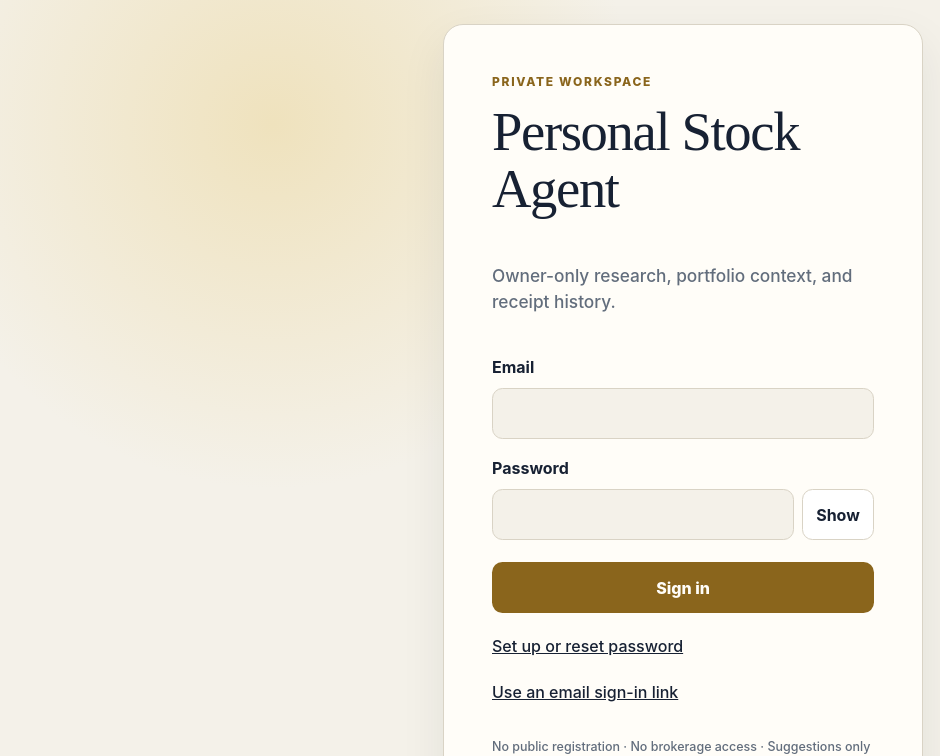
Test: shows a generic error when password sign-in fails
Type "unknown@example.com" into the field labelled "Email".
click(683, 414); type("unknown@example.com")  # box 492,388 -> 874,439
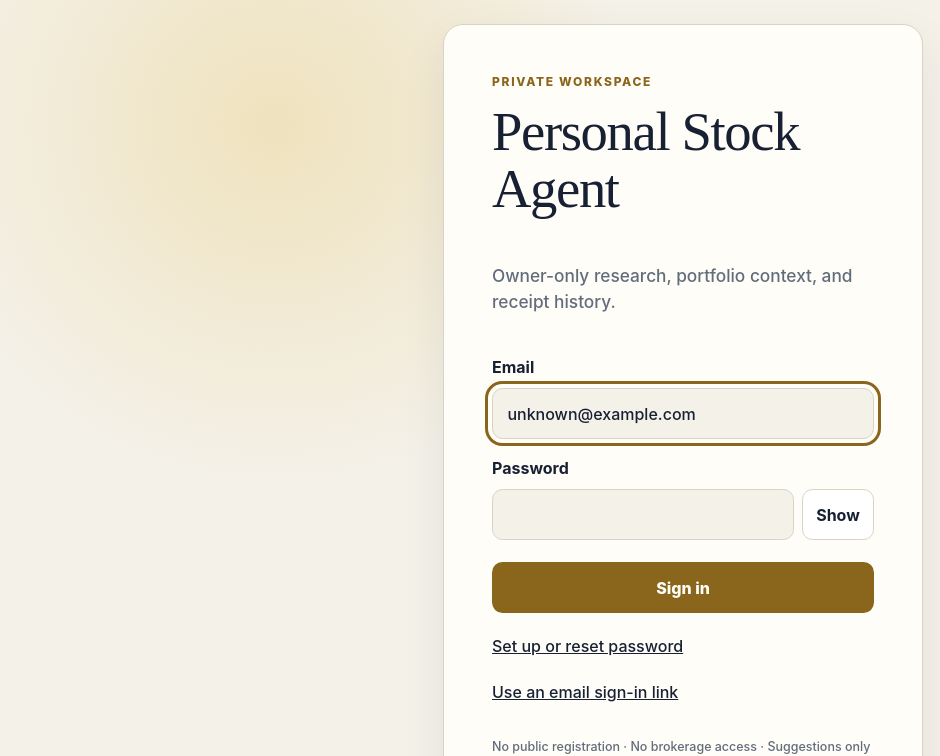
Type "wrong-password" into the password field labelled "Password".
click(643, 515); type("wrong-password")  # box 492,489 -> 794,540
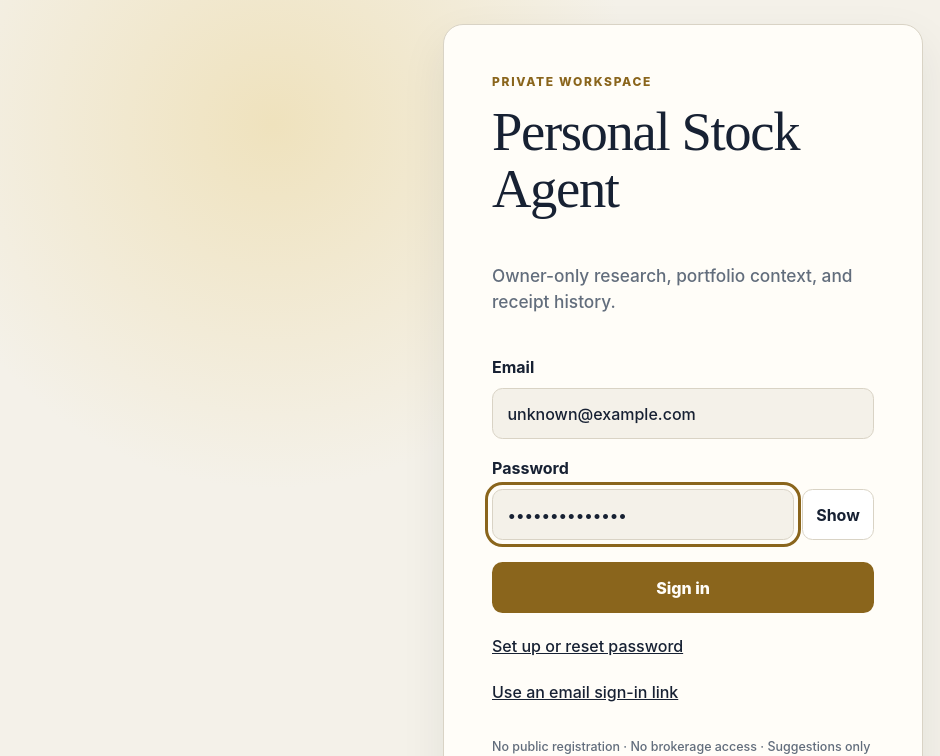
Click the button "Sign in".
click(683, 588)  # box 492,562 -> 874,613
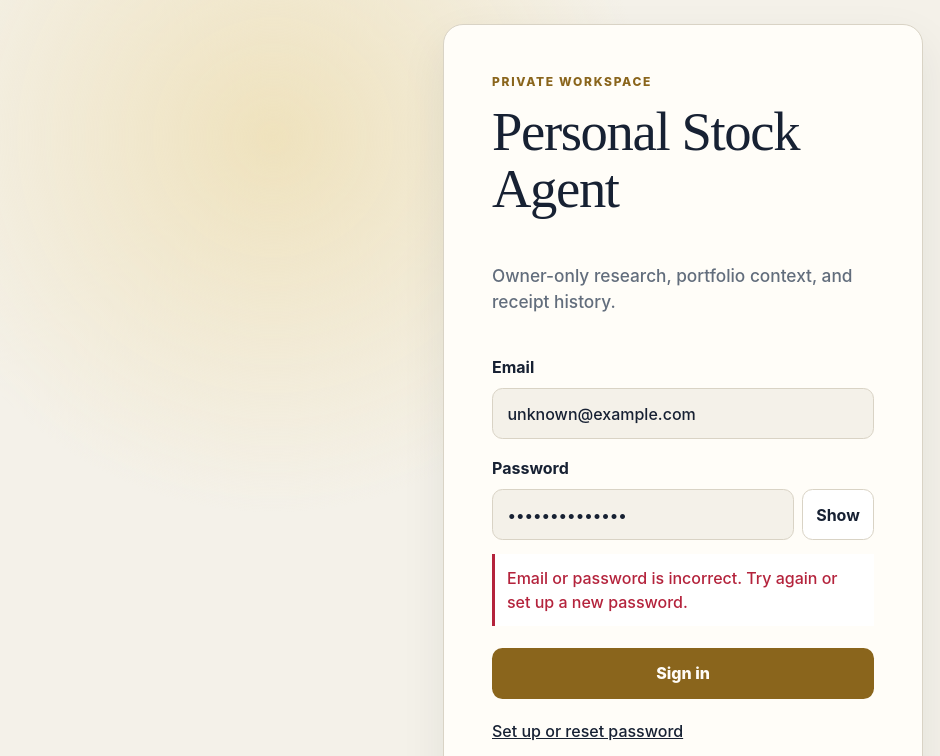
Now the message shows "Email or password is incorrect", box 507,568 -> 838,612
